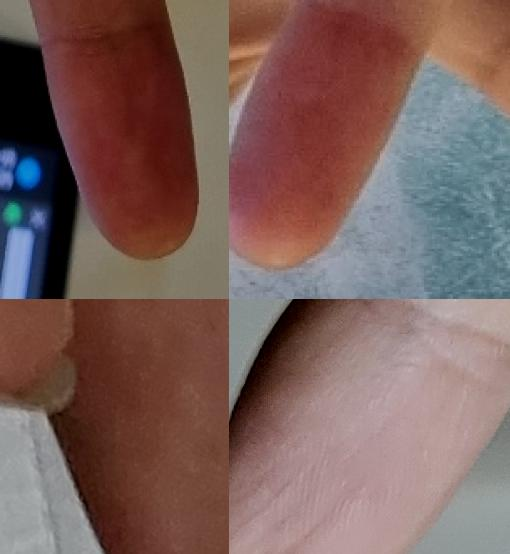Fingerprints: (229, 299, 510, 554), (229, 0, 426, 268), (49, 299, 229, 554), (48, 26, 198, 262)
